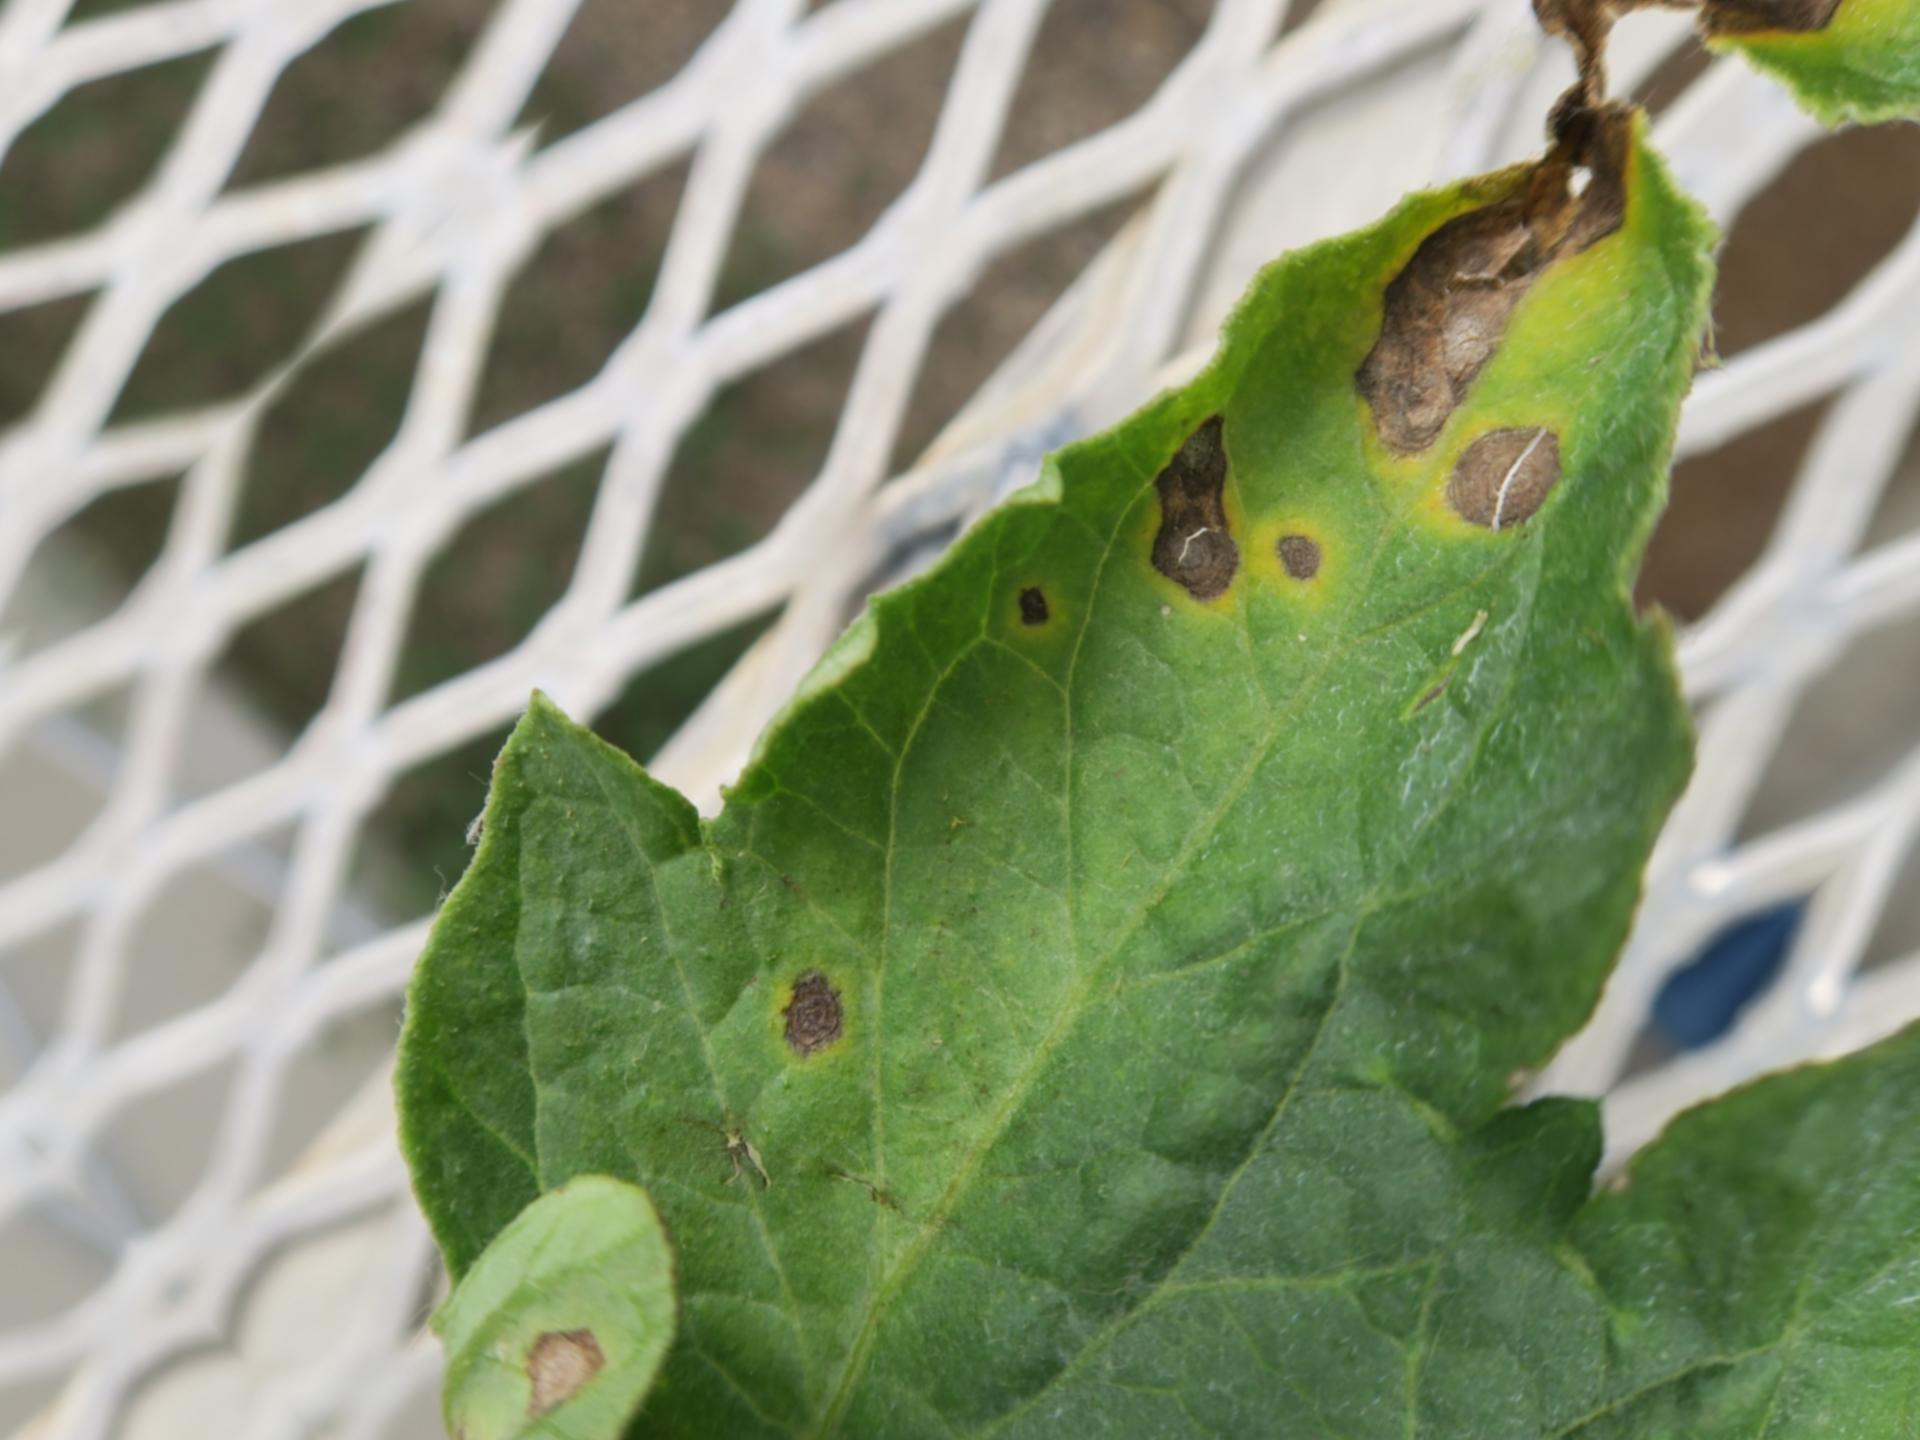Tomato Early blight leaf: (67, 0, 1920, 1440)
